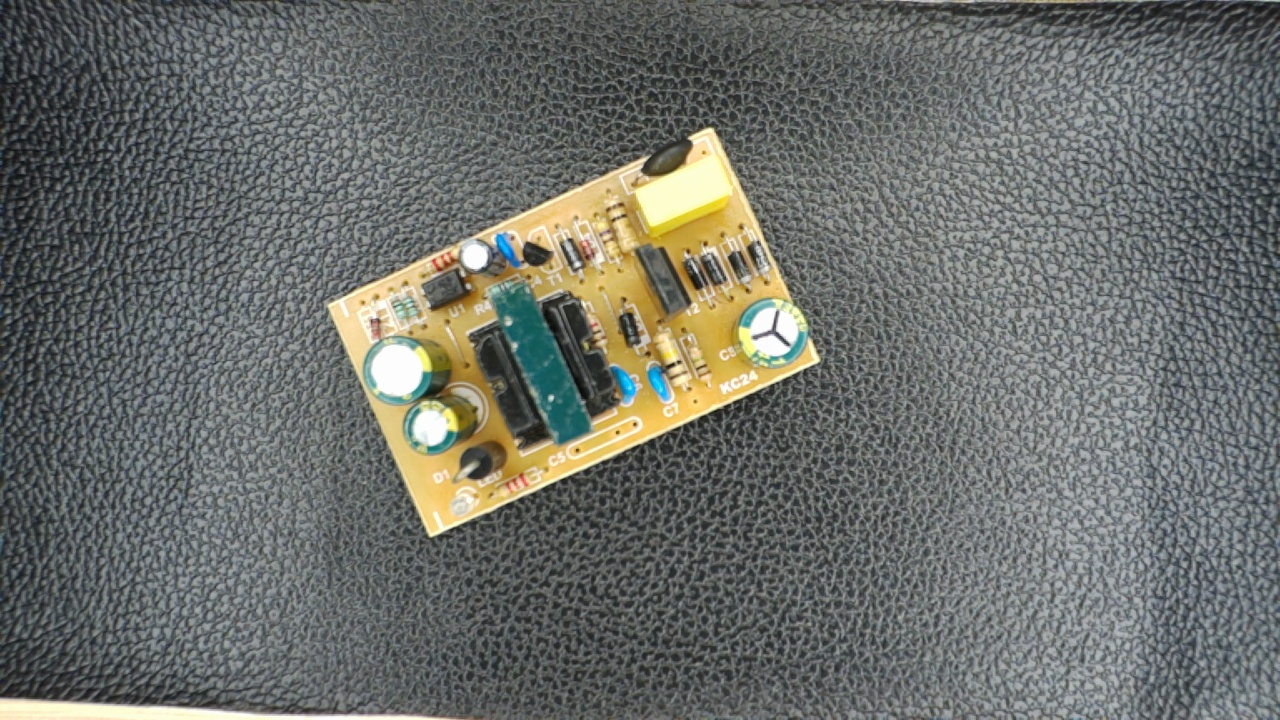fuse: (626, 137, 702, 185)
hv_capacitor: (728, 297, 812, 372)
optocoupler: (411, 266, 482, 312)
